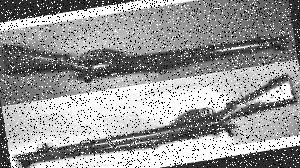rifle: (8, 69, 300, 168)
